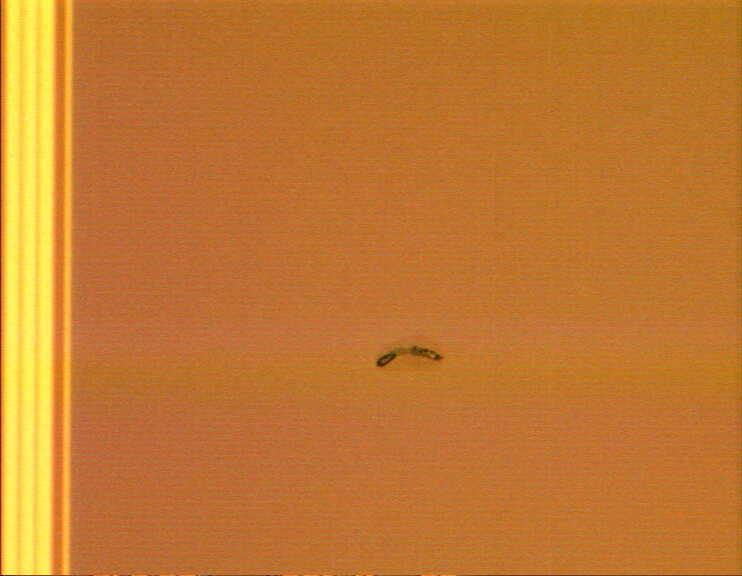PIQ PARTICLE: (374, 345, 446, 368)
